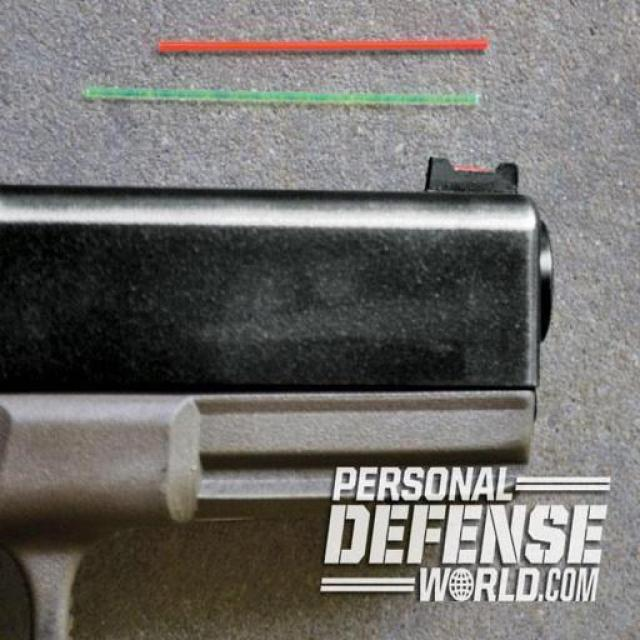pistol: (1, 131, 560, 640)
